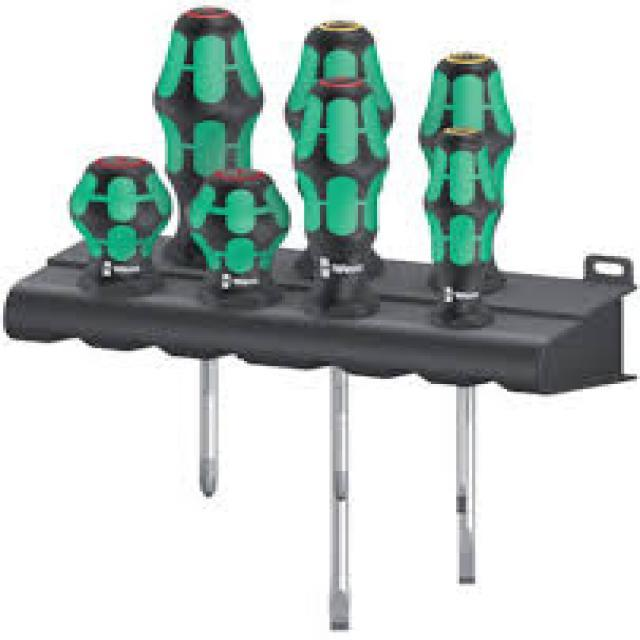screwdriver: (280, 15, 398, 635), (412, 49, 520, 584), (150, 6, 264, 488), (293, 74, 391, 502), (420, 124, 502, 518)
